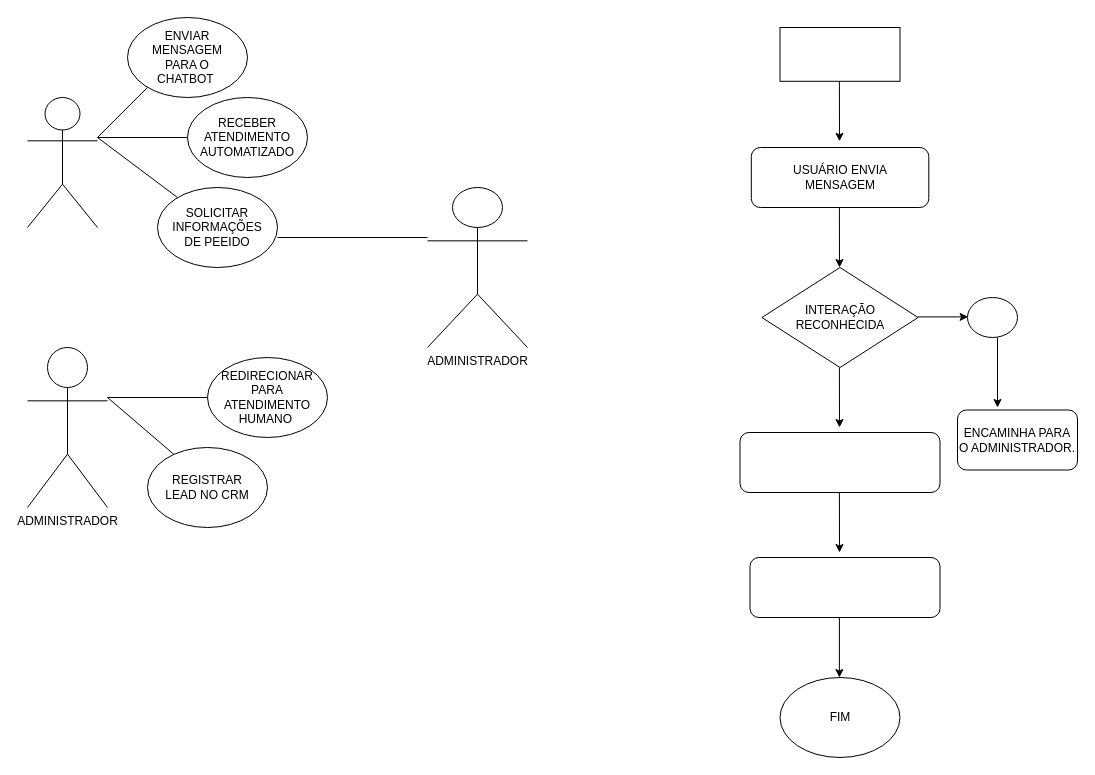
This 1095x775 diagram has some shape labels left out. The centre of each missing label's shape, as x and y in pixels:
"ATUALIZA SISTEMA (CRM OU BANCO)" belongs at (844,587).
"CLIENTE" belongs at (62,162).
"EXECUTA RESPOTA AUTOMATIZADA" belongs at (839,462).
"INICÍO" belongs at (839,53).
"NÃO" belongs at (992,317).
